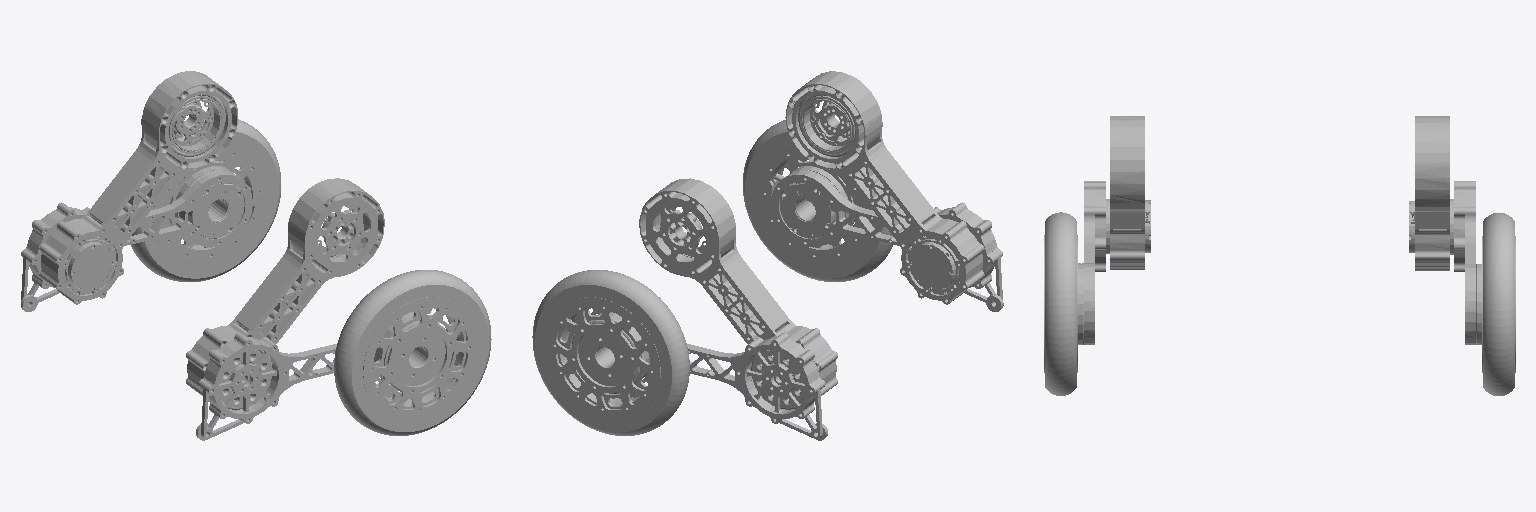
robot.urdf — hoppertrex:
<?xml version="1.0" ?>
<robot name="hoppertrex">
  <link name="chassis_base">
    <visual>
      <origin xyz="0.29009823942780510464 0.10890417443703448441 -0.012512191513313342117" rpy="0 -0 0"/>
      <geometry>
        <mesh filename="meshes/chassis_base.stl"/>
      </geometry>
      <material name="chassis_base_material">
        <color rgba="0.74901960784313725839 0.74901960784313725839 0.74901960784313725839 1.0"/>
      </material>
    </visual>
    <collision>
      <origin xyz="0.29009823942780510464 0.10890417443703448441 -0.012512191513313342117" rpy="0 -0 0"/>
      <geometry>
        <mesh filename="meshes/chassis_base.stl"/>
      </geometry>
    </collision>
    <inertial>
      <origin xyz="0.055895412145747870591 0.12657096212450411055 0.15318659611809870569"/>
      <mass value="5.8727148917171856368"/>
      <inertia ixx="0.088309917706643675794" ixy="-0.0014354343812204562163" ixz="-0.0039710314867017646942" iyy="0.14982418413040080041" iyz="-0.00051177934735816249089" izz="0.17882589751939756417"/>
    </inertial>
  </link>
  <link name="thigh_left">
    <visual>
      <origin xyz="-1.9567680809018384025e-15 -3.3584246494910985348e-15 -0.00038047541360120007425" rpy="1.570796326794896558 4.5215650200329358587e-49 -2.2442048866913784126e-48"/>
      <geometry>
        <mesh filename="meshes/thigh_left.stl"/>
      </geometry>
      <material name="thigh_left_material">
        <color rgba="0.74901960784313725839 0.74901960784313725839 0.74901960784313725839 1.0"/>
      </material>
    </visual>
    <collision>
      <origin xyz="-1.9567680809018384025e-15 -3.3584246494910985348e-15 -0.00038047541360120007425" rpy="1.570796326794896558 4.5215650200329358587e-49 -2.2442048866913784126e-48"/>
      <geometry>
        <mesh filename="meshes/thigh_left.stl"/>
      </geometry>
    </collision>
    <inertial>
      <origin xyz="0.092770052572384617551 0.09281645999358745236 -0.0052157327158889555882"/>
      <mass value="2.0241383137761896904"/>
      <inertia ixx="0.0088526604291463400348" ixy="-0.0074140948510285397191" ixz="0.00035462848098260276591" iyy="0.0088441939513391586852" iyz="0.00035321241672811831388" izz="0.016824423469267411196"/>
    </inertial>
  </link>
  <link name="calf_left">
    <visual>
      <origin xyz="0.19972590695091538282 -0.010467191248636834033 0.037619524586398778165" rpy="1.570796326794896558 -7.3151946019829827662e-33 -1.3658249345368389527"/>
      <geometry>
        <mesh filename="meshes/calf_left.stl"/>
      </geometry>
      <material name="calf_left_material">
        <color rgba="0.74901960784313725839 0.74901960784313725839 0.74901960784313725839 1.0"/>
      </material>
    </visual>
    <collision>
      <origin xyz="0.19972590695091538282 -0.010467191248636834033 0.037619524586398778165" rpy="1.570796326794896558 -7.3151946019829827662e-33 -1.3658249345368389527"/>
      <geometry>
        <mesh filename="meshes/calf_left.stl"/>
      </geometry>
    </collision>
    <inertial>
      <origin xyz="0.00064611828783225910833 0.16242784245814667621 -0.019213028850336162645"/>
      <mass value="1.4010569616886816569"/>
      <inertia ixx="0.0090494322095628892261" ixy="0.00017141462205568300118" ixz="-1.7775492434765793783e-05" iyy="0.0011773094439862955094" iyz="0.00097440141949894931456" izz="0.0094944468475180003597"/>
    </inertial>
  </link>
  <link name="wheel">
    <visual>
      <origin xyz="0.016817680662807393821 0.048733593051438997557 0.054906332694013570972" rpy="1.570796326794896558 1.570796326794896558 0"/>
      <geometry>
        <mesh filename="meshes/wheel.stl"/>
      </geometry>
      <material name="wheel_material">
        <color rgba="0.74901960784313725839 0.74901960784313725839 0.74901960784313725839 1.0"/>
      </material>
    </visual>
    <collision>
      <origin xyz="0.016817680662807393821 0.048733593051438997557 0.054906332694013570972" rpy="1.570796326794896558 1.570796326794896558 0"/>
      <geometry>
        <mesh filename="meshes/wheel.stl"/>
      </geometry>
    </collision>
    <inertial>
      <origin xyz="0.00010547263520669855619 -7.5212762173079705796e-05 0.013840445172846507771"/>
      <mass value="2.0229857692876693775"/>
      <inertia ixx="0.0066659423683468419647" ixy="-6.5131866571334745463e-06" ixz="-3.8150152317756947572e-06" iyy="0.00666143500652505334" iyz="2.3568748432069129431e-06" izz="0.012909967168320676464"/>
    </inertial>
  </link>
  <joint name="wheel_left" type="continuous">
    <origin xyz="-1.2038980923279041235e-15 0.20000000000000006661 -0.049249999999999904965" rpy="-3.2864718378952731438e-30 5.6206339496997903889e-30 -1.570796326794896558"/>
    <parent link="calf_left"/>
    <child link="wheel"/>
    <axis xyz="0 0 1"/>
    <limit effort="97" velocity="29.321531433504734565"/>
    <joint_properties friction="0.0"/>
  </joint>
  <joint name="knee_left" type="continuous">
    <origin xyz="0.14140653523082988285 0.14143617569071276208 -0.03799999999999997824" rpy="7.352610766226680913e-17 -4.2879158648300086325e-17 1.570796326794896558"/>
    <parent link="thigh_left"/>
    <child link="calf_left"/>
    <axis xyz="0 0 1"/>
    <limit effort="97" velocity="29.321531433504734565"/>
    <joint_properties friction="0.0"/>
  </joint>
  <joint name="thigh_left" type="continuous">
    <origin xyz="0.080498239427805123869 0.28987599253654483533 0.16200380461792152076" rpy="-1.570796326794896558 -3.435089523986230097e-32 3.141592653589793116"/>
    <parent link="chassis_base"/>
    <child link="thigh_left"/>
    <axis xyz="0 0 1"/>
    <limit effort="97" velocity="29.321531433504734565"/>
    <joint_properties friction="0.0"/>
  </joint>
  <link name="thigh_right">
    <visual>
      <origin xyz="-1.9567680809018384025e-15 3.4139358007223563618e-15 -0.00038047541360099884633" rpy="1.570796326794896558 -0 0"/>
      <geometry>
        <mesh filename="meshes/thigh_right.stl"/>
      </geometry>
      <material name="thigh_right_material">
        <color rgba="0.74901960784313725839 0.74901960784313725839 0.74901960784313725839 1.0"/>
      </material>
    </visual>
    <collision>
      <origin xyz="-1.9567680809018384025e-15 3.4139358007223563618e-15 -0.00038047541360099884633" rpy="1.570796326794896558 -0 0"/>
      <geometry>
        <mesh filename="meshes/thigh_right.stl"/>
      </geometry>
    </collision>
    <inertial>
      <origin xyz="0.092888119650734679578 -0.09269830169771210715 -0.0052157327715056751513"/>
      <mass value="2.0241383089687330354"/>
      <inertia ixx="0.0088337862522194707249" ixy="0.0074140816146944987439" ixz="0.00035507777999407440402" iyy="0.008863068135641990683" iyz="-0.00035276074194712047196" izz="0.016824423482257596513"/>
    </inertial>
  </link>
  <link name="calf_right">
    <visual>
      <origin xyz="0.20000000000000056621 5.1375570464529118908e-14 0.037619524586398792043" rpy="1.570796326794896558 -6.6995070003450173608e-17 1.3654247411550519686"/>
      <geometry>
        <mesh filename="meshes/calf_right.stl"/>
      </geometry>
      <material name="calf_right_material">
        <color rgba="0.74901960784313725839 0.74901960784313725839 0.74901960784313725839 1.0"/>
      </material>
    </visual>
    <collision>
      <origin xyz="0.20000000000000056621 5.1375570464529118908e-14 0.037619524586398792043" rpy="1.570796326794896558 -6.6995070003450173608e-17 1.3654247411550519686"/>
      <geometry>
        <mesh filename="meshes/calf_right.stl"/>
      </geometry>
    </collision>
    <inertial>
      <origin xyz="0.00064539270661351233471 -0.16242564014253829674 -0.01921302868149451365"/>
      <mass value="1.4010569506980097287"/>
      <inertia ixx="0.0090491398578737159558" ixy="-0.00017136902669792153462" ixz="-1.7760646585659948512e-05" iyy="0.0011773712444962138295" iyz="-0.00097444646856104815726" izz="0.0094942163072720929529"/>
    </inertial>
  </link>
  <link name="wheel_2">
    <visual>
      <origin xyz="0.016817680662807407699 0.048733593051438997557 0.054906332694013598728" rpy="1.570796326794896558 1.570796326794896558 0"/>
      <geometry>
        <mesh filename="meshes/wheel.stl"/>
      </geometry>
      <material name="wheel_material">
        <color rgba="0.74901960784313725839 0.74901960784313725839 0.74901960784313725839 1.0"/>
      </material>
    </visual>
    <collision>
      <origin xyz="0.016817680662807407699 0.048733593051438997557 0.054906332694013598728" rpy="1.570796326794896558 1.570796326794896558 0"/>
      <geometry>
        <mesh filename="meshes/wheel.stl"/>
      </geometry>
    </collision>
    <inertial>
      <origin xyz="0.00010547263520671243398 -7.5212762173079705796e-05 0.013840445172846535526"/>
      <mass value="2.0229857692876693775"/>
      <inertia ixx="0.0066659423683468419647" ixy="-6.5131866571334745463e-06" ixz="-3.8150152317756947572e-06" iyy="0.00666143500652505334" iyz="2.3568748432069129431e-06" izz="0.012909967168320676464"/>
    </inertial>
  </link>
  <joint name="wheel_right" type="continuous">
    <origin xyz="7.459310946700270506e-16 -0.19999999999999418243 -0.049249999999999904965" rpy="3.8679621701016401642e-17 -6.6995070003450173608e-17 1.570796326794896558"/>
    <parent link="calf_right"/>
    <child link="wheel_2"/>
    <axis xyz="0 0 1"/>
    <limit effort="97" velocity="29.321531433504734565"/>
    <joint_properties friction="0.0"/>
  </joint>
  <joint name="knee_right" type="continuous">
    <origin xyz="0.1415864487999250465 -0.14125607072344859017 -0.037999999999999790889" rpy="-7.2784541359450178099e-17 -4.7810507361925806849e-17 -1.570796326794896558"/>
    <parent link="thigh_right"/>
    <child link="calf_right"/>
    <axis xyz="0 0 1"/>
    <limit effort="97" velocity="29.321531433504734565"/>
    <joint_properties friction="0.0"/>
  </joint>
  <joint name="thigh_right" type="continuous">
    <origin xyz="0.080498549081831557994 -0.040124007463455207967 0.16200579275161086645" rpy="1.570796326794896558 -0 3.141592653589793116"/>
    <parent link="chassis_base"/>
    <child link="thigh_right"/>
    <axis xyz="0 0 1"/>
    <limit effort="97" velocity="29.321531433504734565"/>
    <joint_properties friction="0.0"/>
  </joint>
</robot>

--- Facts derived from the render (not from the file) ---
3 views of the same robot in one strip: view 1: azimuth 30°, elevation 25°; view 2: azimuth 150°, elevation 25°; view 3: azimuth 270°, elevation 25° (orthographic).
Model hoppertrex with 7 links and 6 joints (6 continuous), rooted at chassis_base, posed every joint at zero.
Links seen in each view (by area): view 1: wheel_2, thigh_left, thigh_right, calf_right, wheel, calf_left; view 2: wheel, thigh_right, thigh_left, calf_left, wheel_2, calf_right; view 3: wheel_2, wheel, thigh_left, thigh_right, calf_right, calf_left.
Link boxes in pixels (box(x1,y1,x2,y2)): wheel_2: box(334, 270, 491, 435); thigh_left: box(39, 71, 237, 304); thigh_right: box(186, 178, 384, 410); calf_right: box(196, 312, 449, 440); wheel: box(131, 119, 280, 281); calf_left: box(21, 166, 252, 311); wheel: box(532, 270, 689, 435); thigh_right: box(785, 71, 984, 304); thigh_left: box(639, 178, 837, 410); calf_left: box(572, 312, 827, 440); wheel_2: box(743, 119, 892, 281); calf_right: box(771, 166, 1003, 311); wheel_2: box(1044, 212, 1077, 395); wheel: box(1482, 213, 1515, 395); thigh_left: box(1409, 116, 1453, 270); thigh_right: box(1106, 116, 1150, 269); calf_right: box(1078, 181, 1105, 344); calf_left: box(1454, 181, 1481, 344).
Bounding box of the posed robot: 0.3601 × 0.5125 × 0.2939 m (x, y, z).
6 mesh visuals loaded from 6 distinct referenced files (5 binary STL); not drawn: 1 (reference not matched to a file when rendering).
